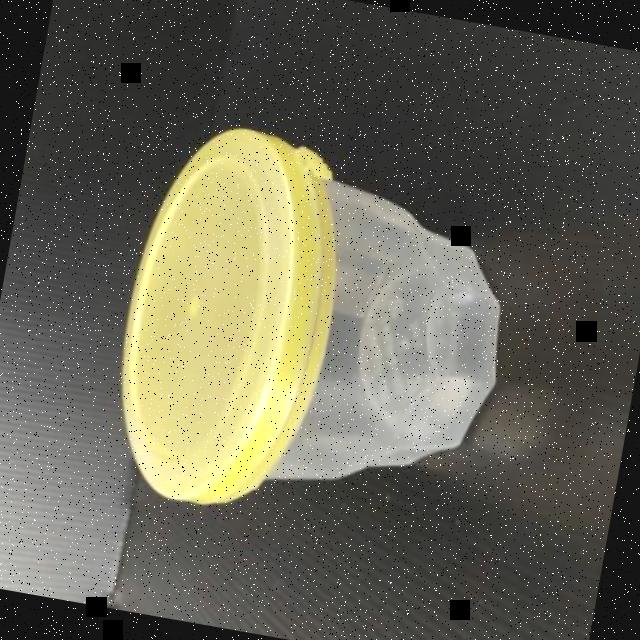plastic_box: (97, 118, 533, 556)
